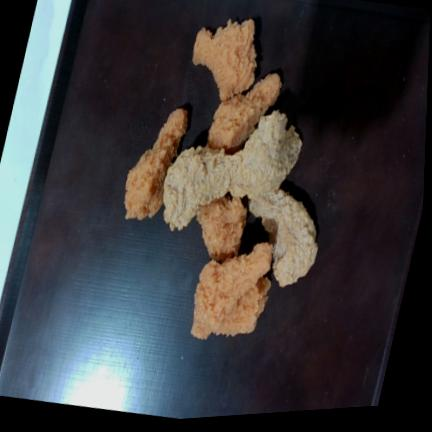chicken: (191, 243, 272, 339), (124, 108, 187, 220), (249, 190, 318, 287), (229, 110, 302, 200), (164, 146, 241, 230), (207, 74, 281, 153), (193, 19, 256, 101), (197, 196, 246, 261)
